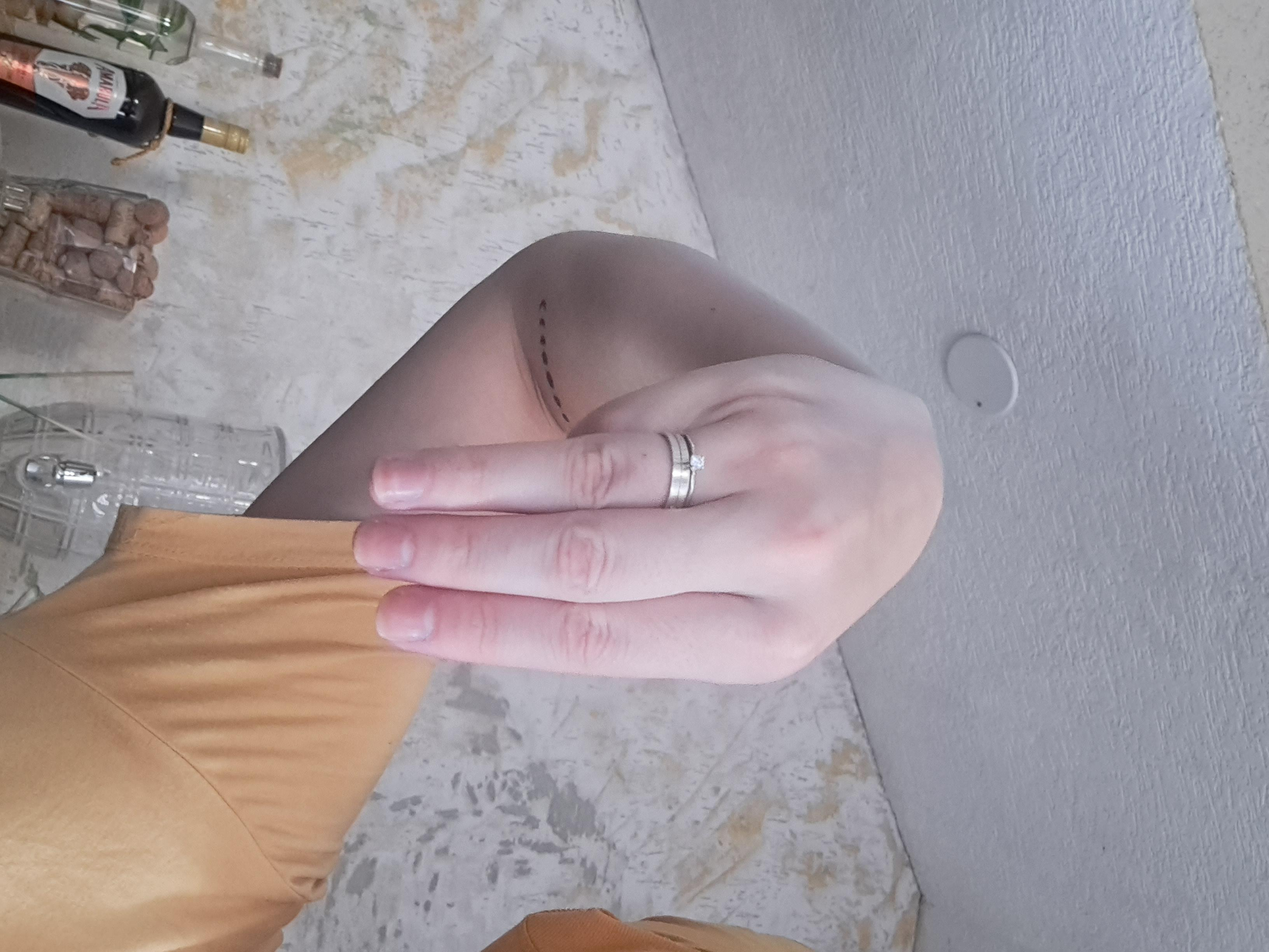M: (435, 225, 964, 680)
